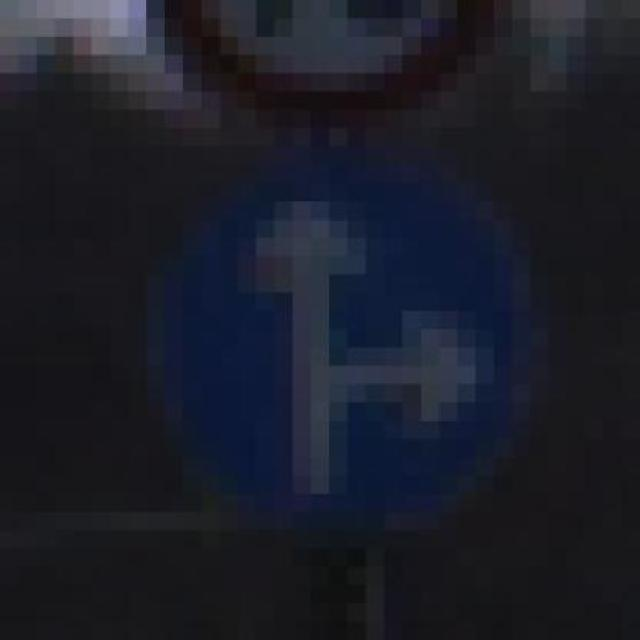Go Straight or Turn Right: (145, 146, 586, 568)
